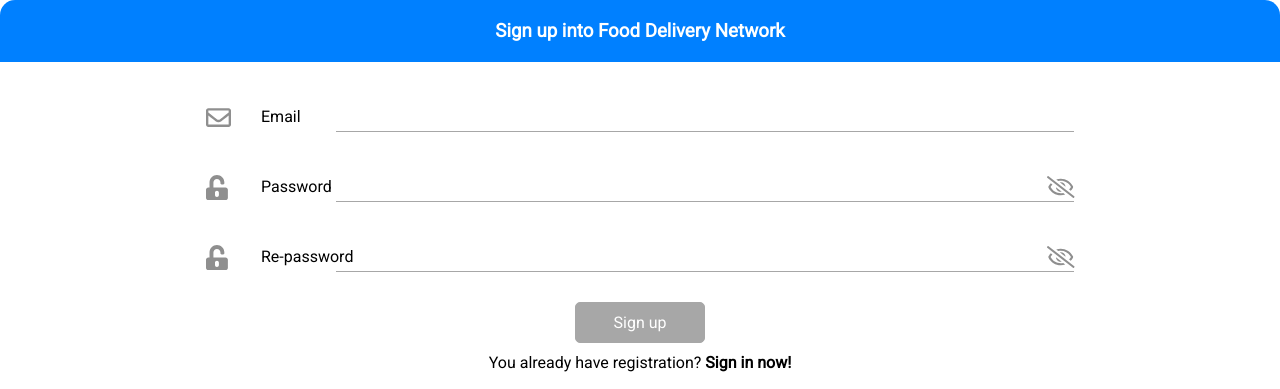
Test: Register modal › should show password error
Type "123" into the password field with test id "password" at [705, 187], box [336,172,1074,202]
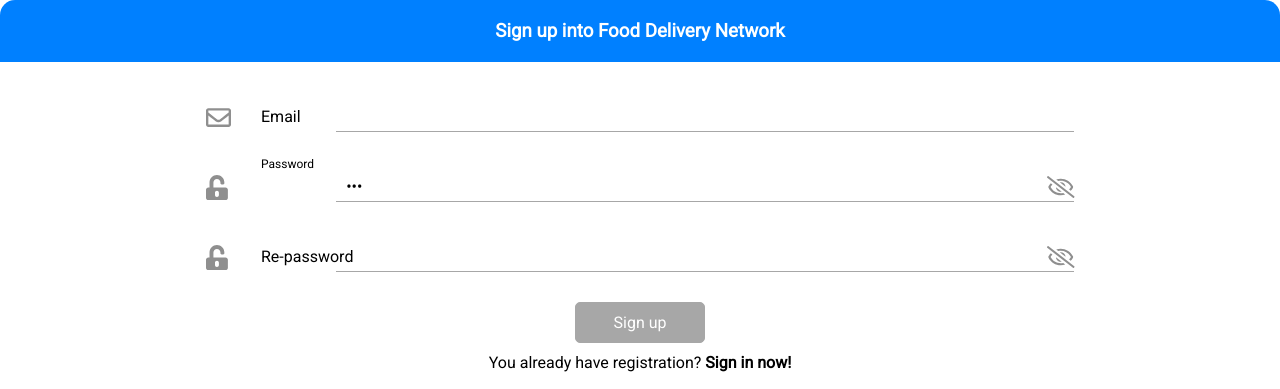
Click the field with test id "email" at [705, 117], box [336,102,1074,132]
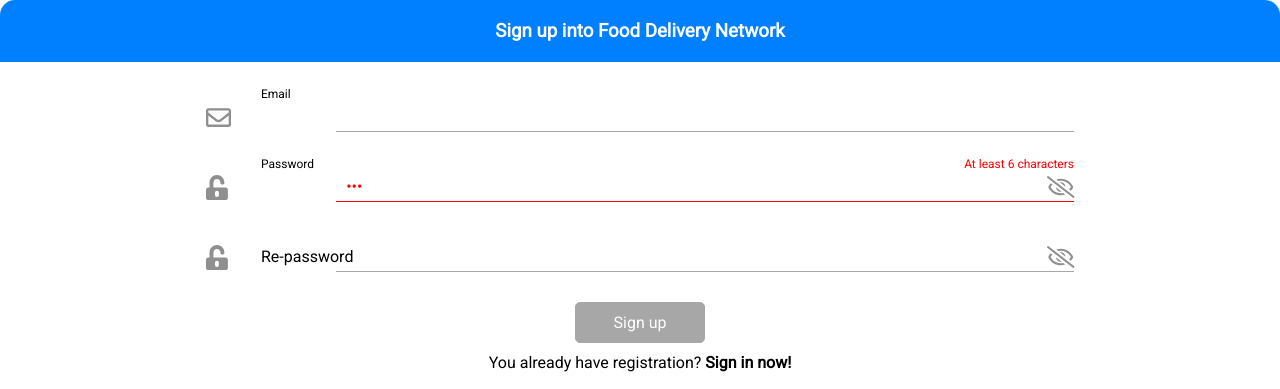
Result: the text "At least 6 characters" is shown at [964,157,1074,171]
